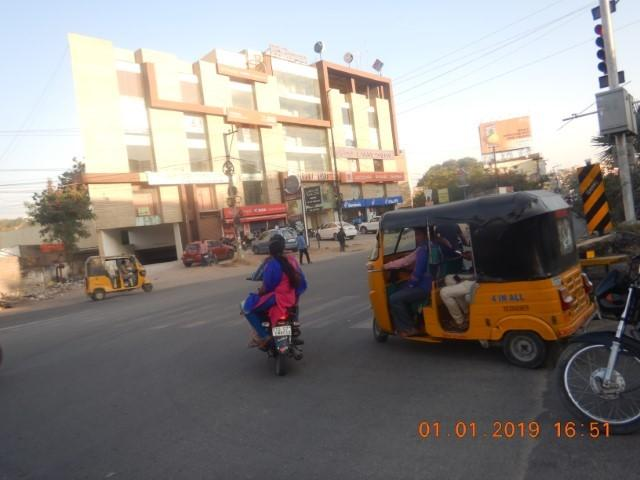plate: (271, 325, 292, 336)
